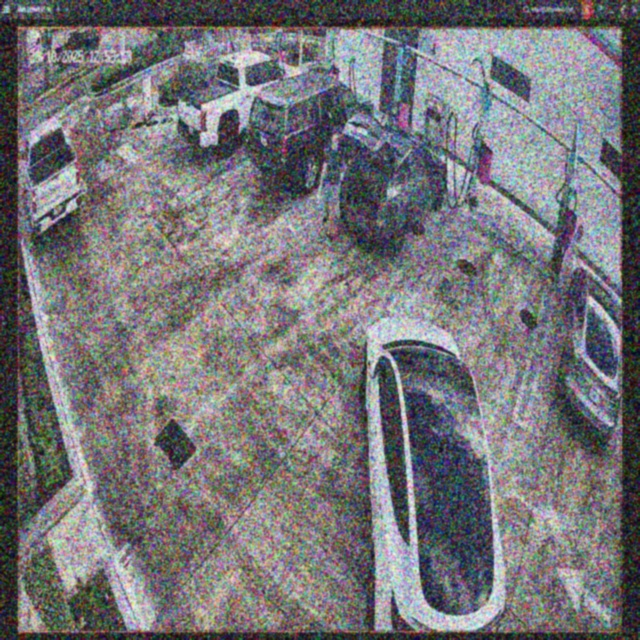Car: (363, 295, 508, 630), (248, 61, 372, 187), (339, 109, 447, 252), (178, 53, 301, 153)
